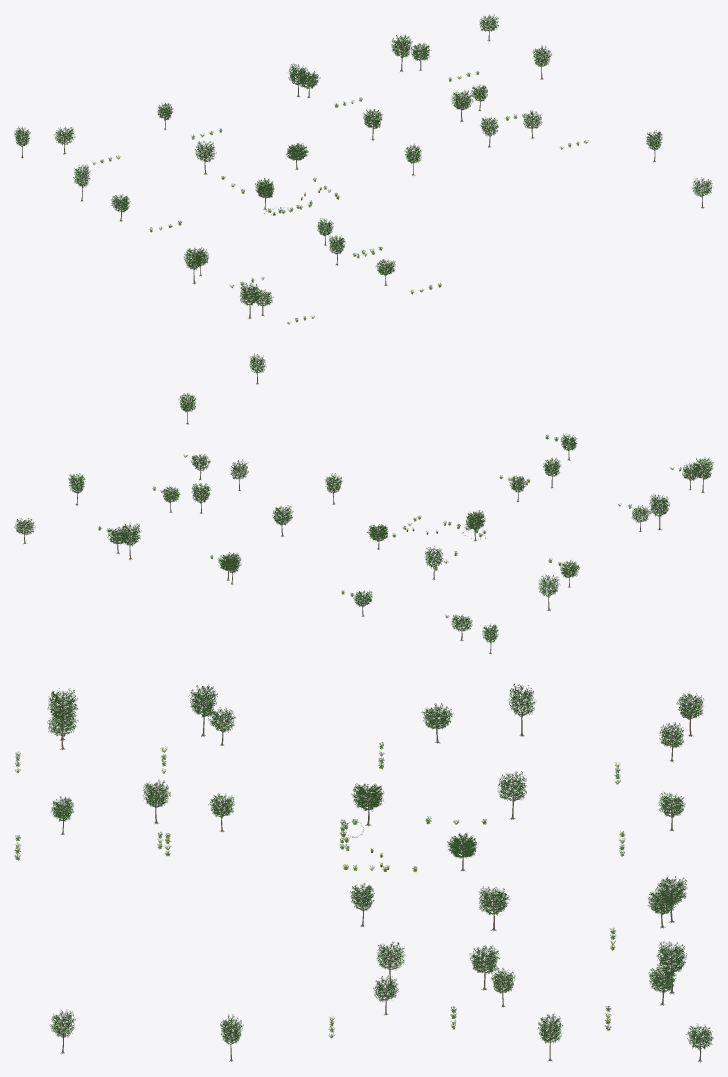
The model's file is vegetation-v3-lite.glb.
The picture shows the model from 3 angles, top to bottom: view 1: azimuth 30°, elevation 25°; view 2: azimuth 150°, elevation 25°; view 3: azimuth 270°, elevation 25°; orthographic projection. The views are drawn at different scales.
Visible parts, largest first — view 1: no part large enough to name; view 2: no part large enough to name; view 3: garden tree 26, UV mapped branches and leaves, garden tree 00, UV mapped branches and leaves, garden tree 20, UV mapped branches and leaves, garden tree 27, UV mapped branches and leaves, garden tree 13, UV mapped branches and leaves, garden tree 19, UV mapped branches and leaves, garden tree 18, UV mapped branches and leaves, garden tree 14, UV mapped branches and leaves, garden tree 15, UV mapped branches and leaves, garden tree 25, UV mapped branches and leaves, garden tree 02, UV mapped branches and leaves, garden tree 01, UV mapped branches and leaves (+1 smaller).
Boxes of the visible parts, left/top/right/bottom form: garden tree 26, UV mapped branches and leaves: left=656, top=941, right=686, bottom=994; garden tree 00, UV mapped branches and leaves: left=351, top=783, right=383, bottom=826; garden tree 20, UV mapped branches and leaves: left=47, top=688, right=78, bottom=740; garden tree 27, UV mapped branches and leaves: left=497, top=771, right=526, bottom=819; garden tree 13, UV mapped branches and leaves: left=479, top=886, right=510, bottom=931; garden tree 19, UV mapped branches and leaves: left=188, top=684, right=217, bottom=736; garden tree 18, UV mapped branches and leaves: left=509, top=683, right=535, bottom=736; garden tree 14, UV mapped branches and leaves: left=469, top=945, right=499, bottom=990; garden tree 15, UV mapped branches and leaves: left=376, top=941, right=405, bottom=984; garden tree 25, UV mapped branches and leaves: left=655, top=876, right=687, bottom=923; garden tree 02, UV mapped branches and leaves: left=421, top=703, right=454, bottom=743; garden tree 01, UV mapped branches and leaves: left=447, top=832, right=477, bottom=871.
Size of the model in its own units: 85.42 by 6.11 by 74.69.
Materials: 11 (6 with a texture image).
